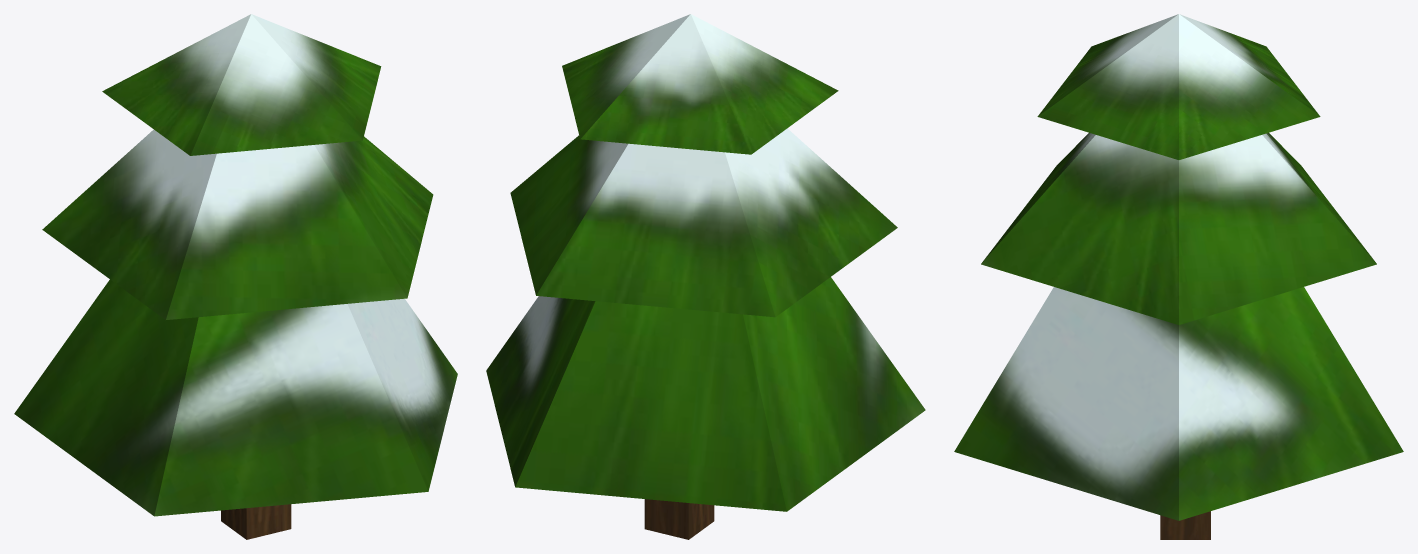
Rendered from ENV_snowtree_001.obj.
The picture shows the model from 3 angles, left to right: view 1: azimuth 30°, elevation 25°; view 2: azimuth 150°, elevation 25°; view 3: azimuth 270°, elevation 25°; orthographic projection.
Parts seen in each view (by area): view 1: tree; view 2: tree; view 3: tree.
Boxes of the visible parts, bbox=[...] form: tree: bbox=[14, 14, 457, 539]; tree: bbox=[486, 14, 925, 539]; tree: bbox=[954, 14, 1403, 539].
Bounding box in the file's own units: 8.39 × 11.06 × 8.82.
Materials: 1 (1 with a texture image).
